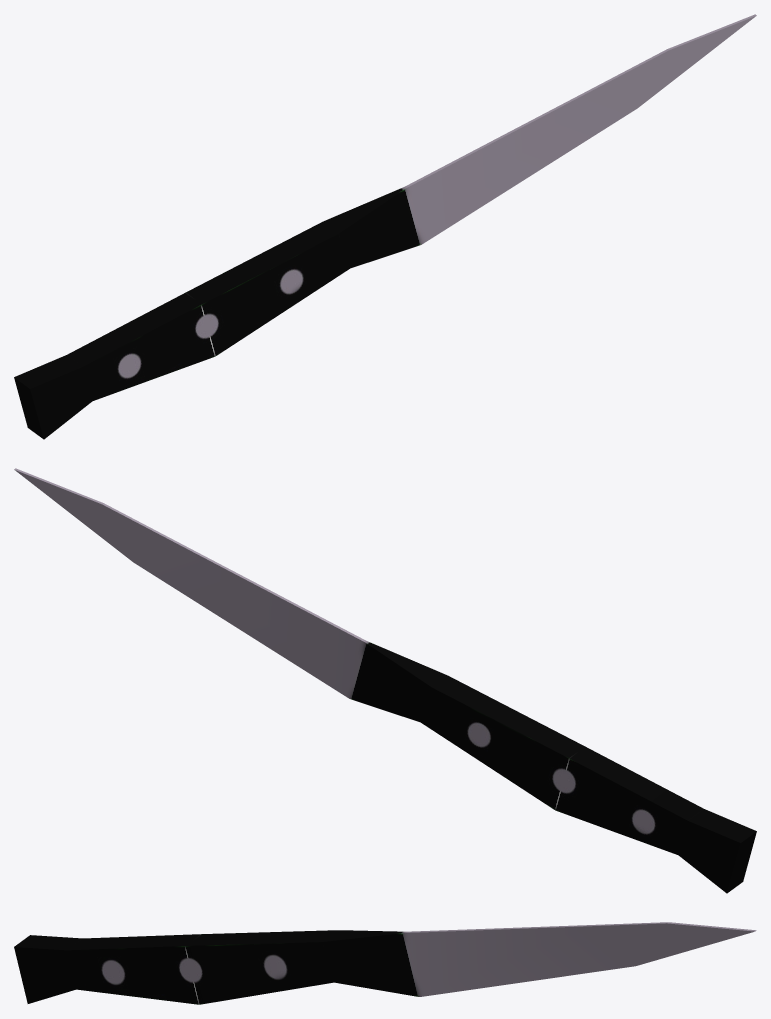
The model's file is 과도fbx.fbx.
3 renders of one model, top to bottom at view 1: azimuth 30°, elevation 25°; view 2: azimuth 150°, elevation 25°; view 3: azimuth 330°, elevation 25°, orthographic.
Visible parts, largest first — view 1: Box001; view 2: Box001; view 3: Box001.
Part boxes in pixels (box(x1,y1,x2,y2)): Box001: box(14, 14, 756, 439); Box001: box(14, 468, 756, 893); Box001: box(14, 922, 756, 1004).
Size of the model in its own units: 45.41 by 14.37 by 1.74.
Materials: 1 (1 with a texture image).
